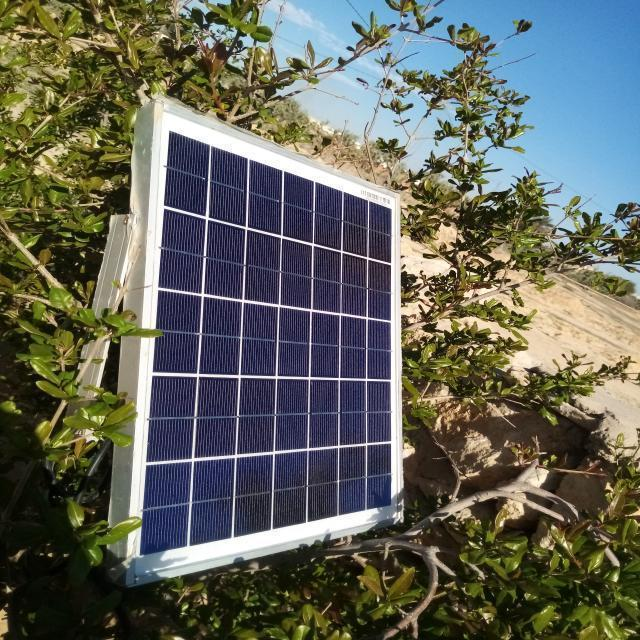Normal Solar Panel: (131, 103, 406, 585)
